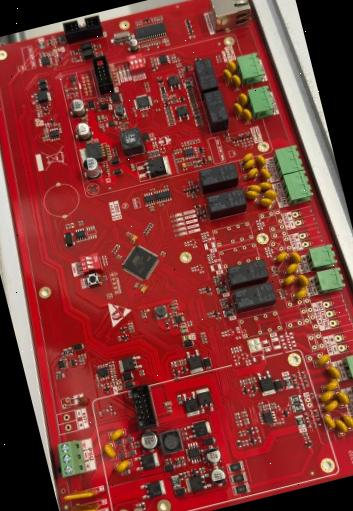var: (62, 486, 98, 504), (63, 499, 100, 511), (334, 389, 350, 406), (333, 416, 348, 434), (326, 364, 341, 381), (317, 389, 335, 403), (113, 459, 131, 473), (322, 412, 336, 430), (321, 399, 339, 413), (314, 353, 331, 367), (108, 428, 125, 442), (103, 442, 116, 460), (295, 272, 309, 288), (244, 188, 260, 202), (222, 67, 234, 85), (322, 380, 340, 392), (341, 412, 353, 430), (288, 250, 302, 265), (262, 188, 277, 202), (236, 92, 249, 108), (272, 251, 288, 264), (246, 183, 262, 196), (283, 262, 299, 275), (232, 101, 244, 118), (258, 196, 273, 209), (244, 167, 259, 180), (230, 74, 242, 90), (240, 107, 252, 123), (292, 288, 308, 300), (280, 274, 296, 286), (254, 154, 267, 168), (259, 167, 271, 182), (258, 180, 272, 192), (240, 152, 254, 164), (242, 158, 256, 170), (226, 60, 237, 74)
